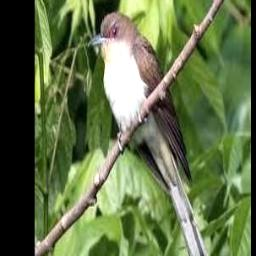Cuckoo: (90, 13, 218, 256)
